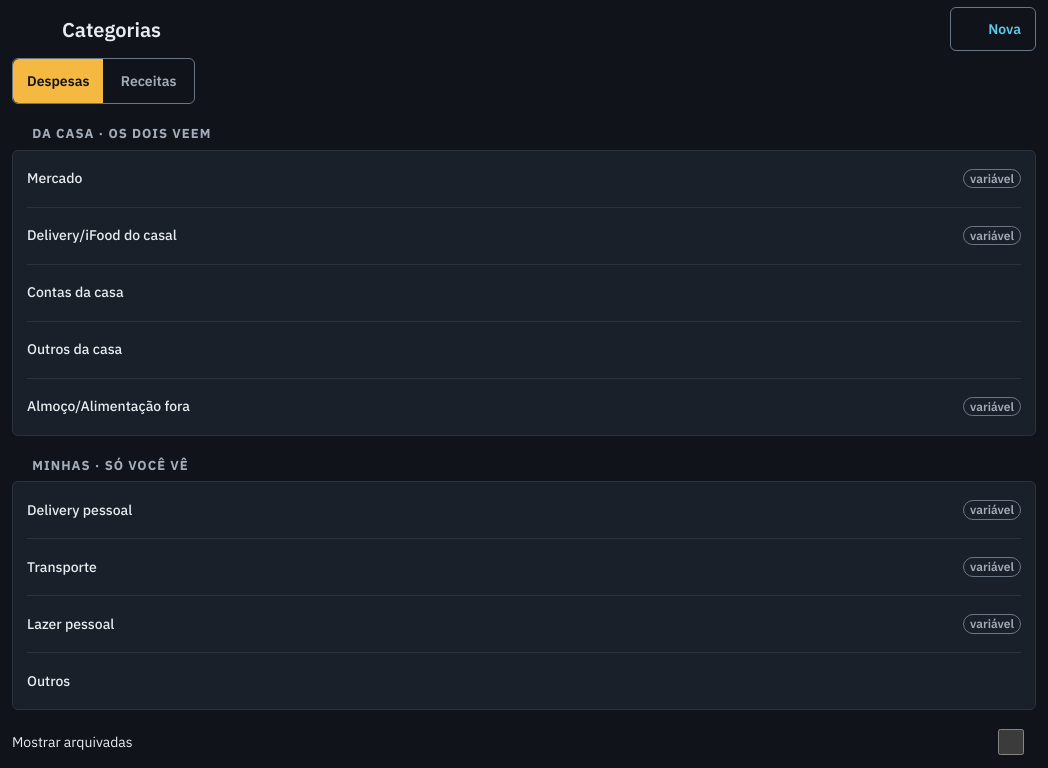
Test: Categorias (T19): estados › arquivada some e volta, marcada "Arquivada", com o interruptor
Expected: the link "Mercado variável" is shown, [27,169,1021,188]
Expected: the link "Moradia" is not shown
Click the switch labelled "Mostrar arquivadas" at (1011, 742), box [989,729,1033,755]
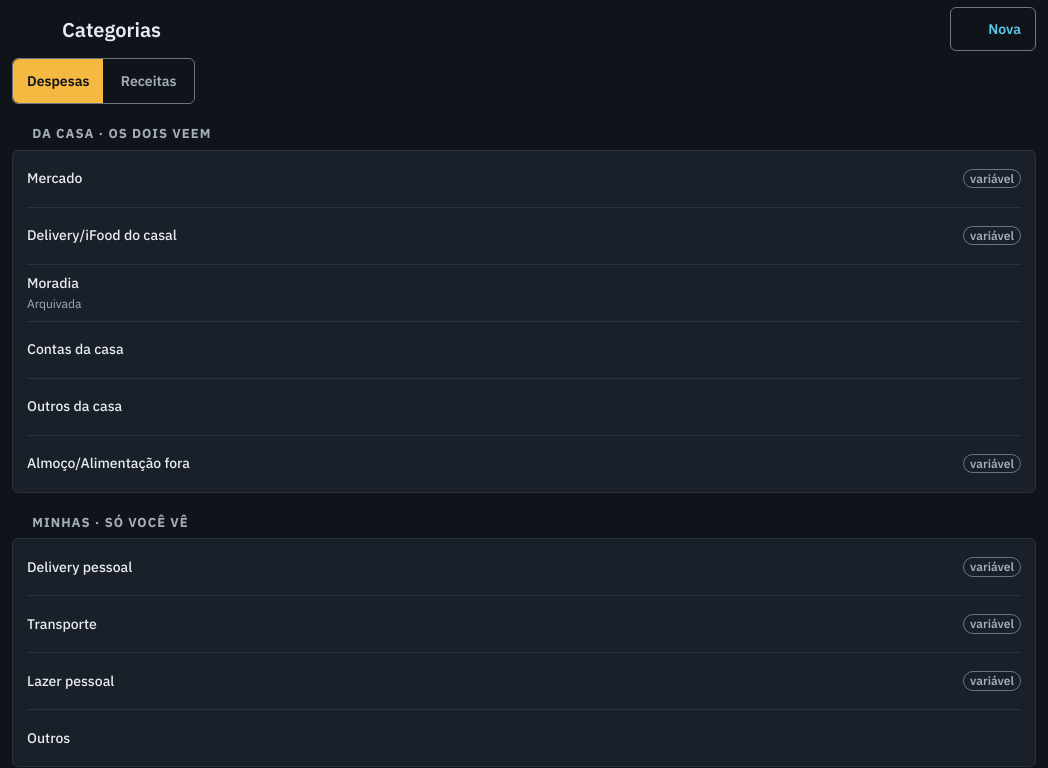
Now the text "Arquivada" is shown, box [27,296,81,311]
